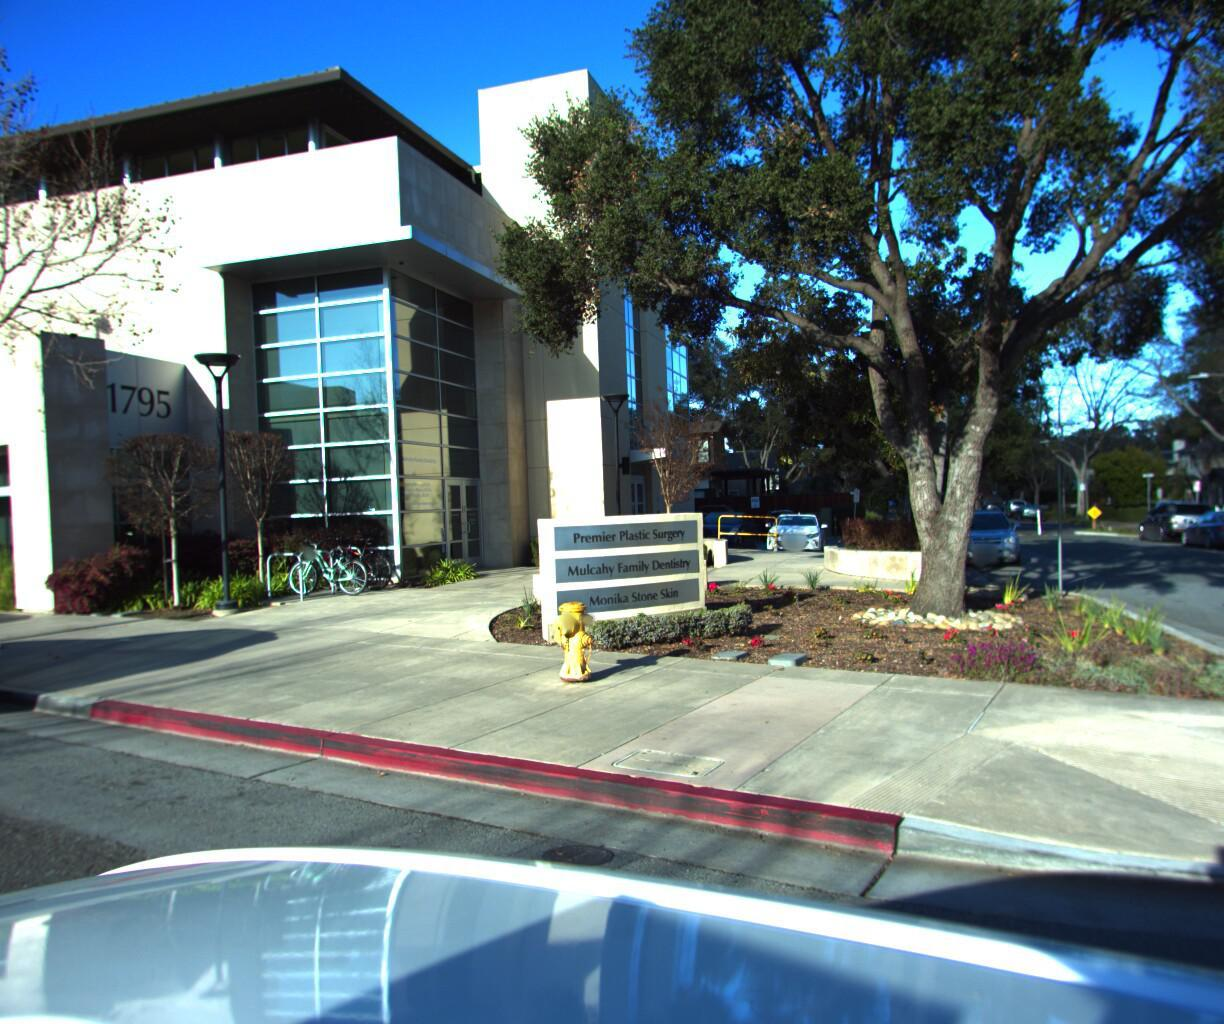bicycle: (277, 531, 382, 595), (305, 529, 406, 589)
car: (948, 501, 1025, 566), (755, 497, 834, 551), (1133, 492, 1224, 538), (681, 502, 762, 553), (1175, 502, 1224, 548), (1014, 498, 1044, 516), (999, 490, 1027, 507)
